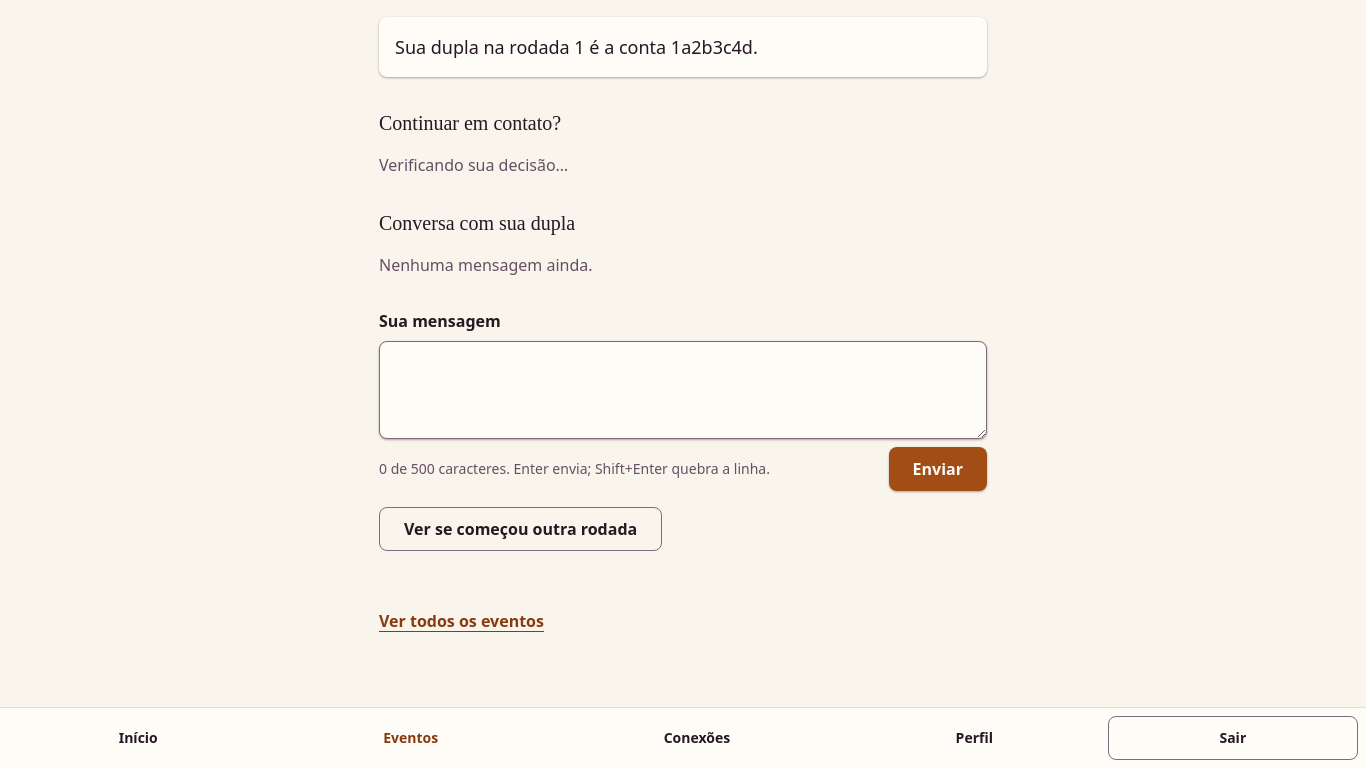
Test: event page, with the page open › a new round starts › keeps the button to check by hand, which does not wait for the interval
(page scrolled)
Expected: the text "Sua dupla na rodada 1 é a conta 1a2b3c4d." is shown, [379,17,987,77]
Step 1. Click the button "Ver se começou outra rodada" → (521, 529), box [379,507,662,551]
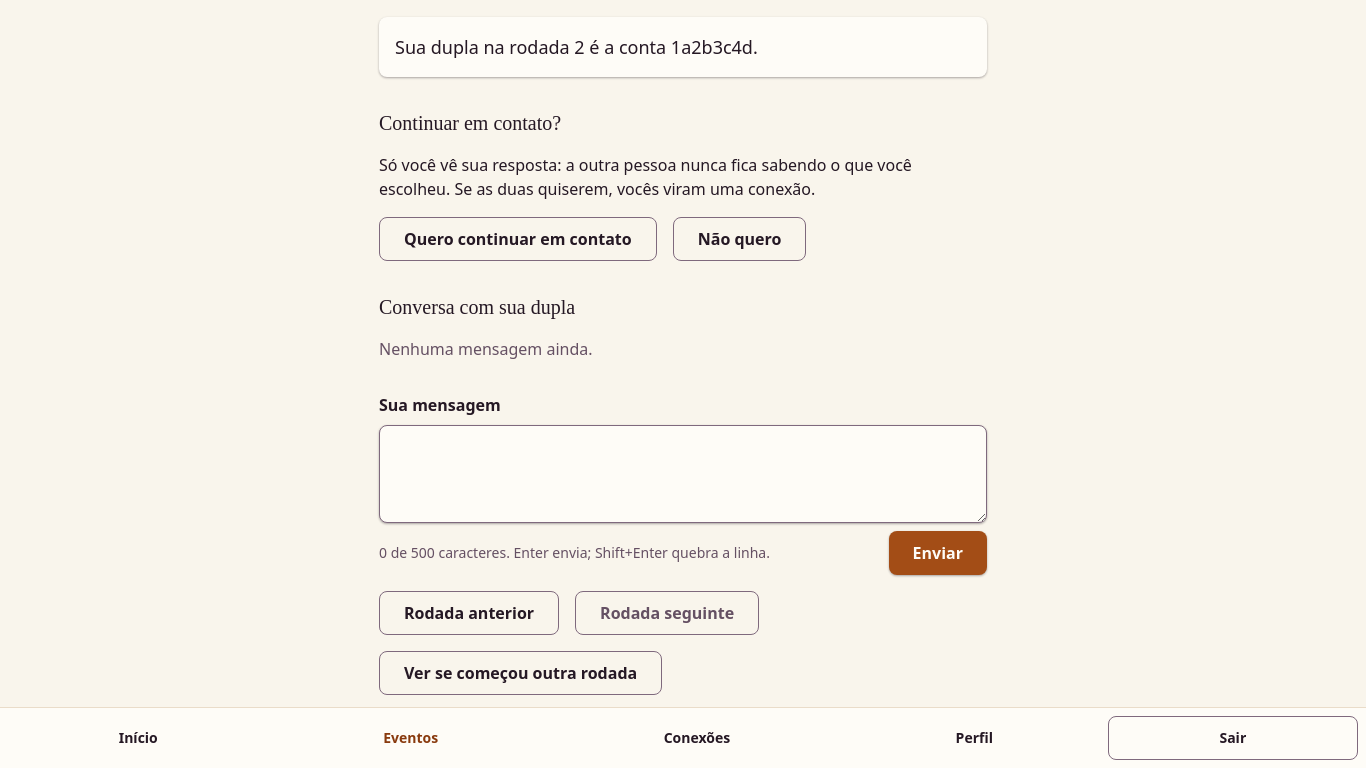
Expected: the text "Sua dupla na rodada 2 é a conta 1a2b3c4d." is shown, [379,17,987,77]
